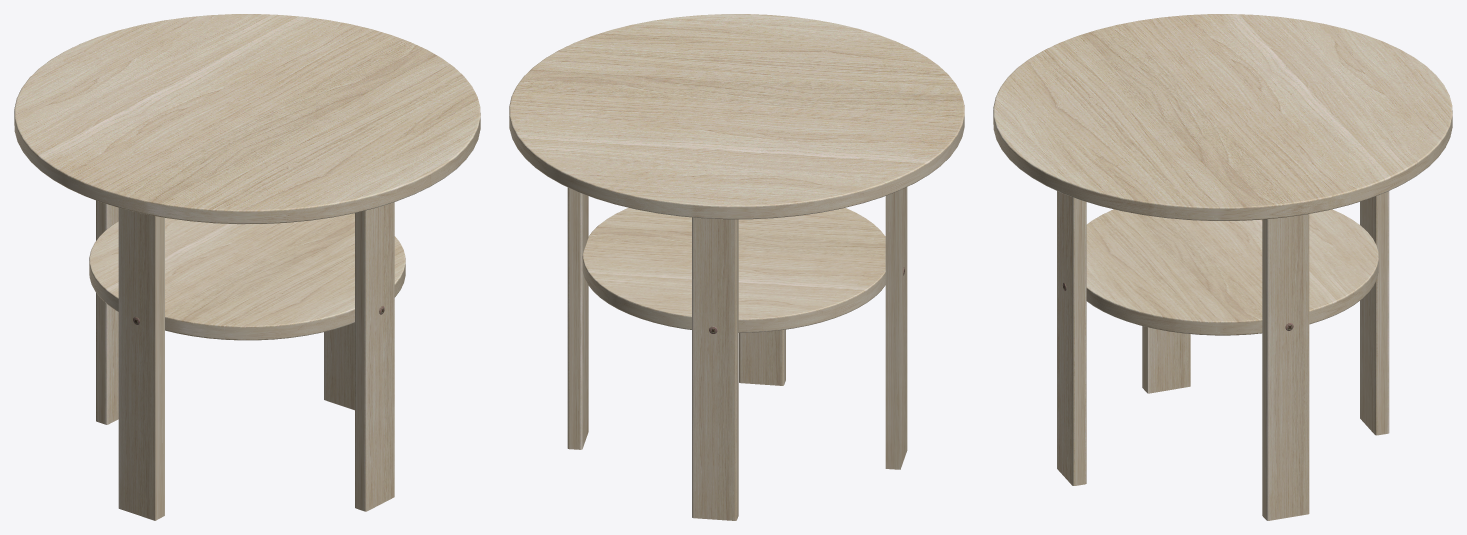
The model's file is table1.gltf.
3 renders of one model, left to right at view 1: azimuth 30°, elevation 25°; view 2: azimuth 150°, elevation 25°; view 3: azimuth 270°, elevation 25°, orthographic. The views are drawn at different scales.
Visible parts, largest first — view 1: table.001, table1, table5, table2, table4, table3; view 2: table.001, table1, table4, table5, table3, table2; view 3: table.001, table1, table3, table2, table4, table5.
Part boxes in pixels (x1,y1,x2,y2): table.001: (14, 14, 480, 224); table1: (89, 213, 405, 340); table5: (118, 208, 164, 520); table2: (355, 202, 394, 511); table4: (96, 200, 118, 424); table3: (324, 322, 354, 410); table.001: (509, 14, 964, 219); table1: (582, 207, 885, 332); table4: (692, 217, 738, 520); table5: (885, 187, 907, 469); table3: (567, 187, 588, 449); table2: (739, 329, 785, 385); table.001: (993, 14, 1452, 220); table1: (1086, 209, 1378, 335); table3: (1262, 214, 1309, 520); table2: (1057, 191, 1086, 485); table4: (1360, 191, 1389, 435); table5: (1142, 326, 1190, 393).
Bounding box in the file's own units: 0.5995 × 0.4915 × 0.5995.
2 materials, 2 textured.
